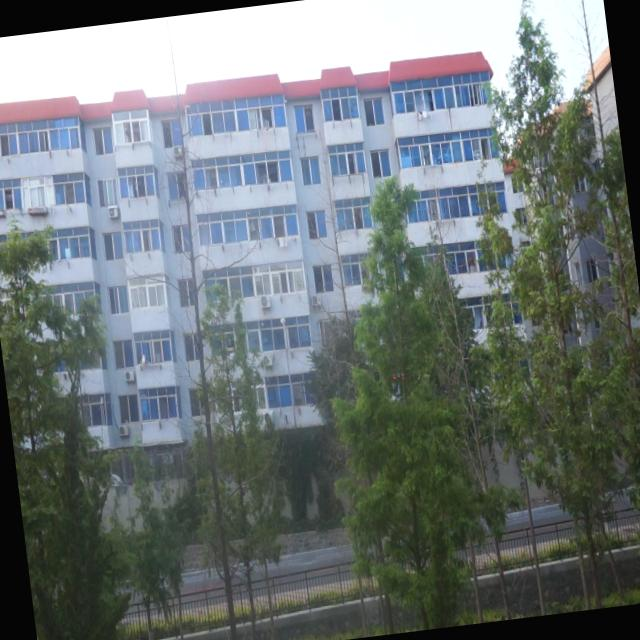drone: (389, 365, 408, 387)
